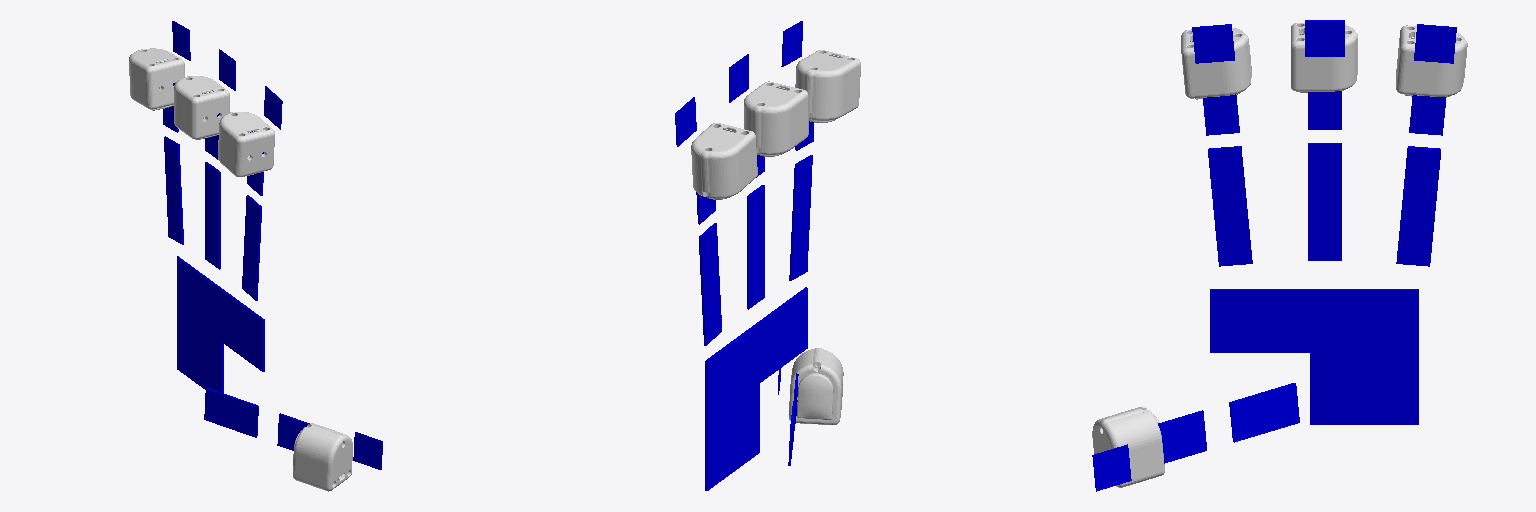
--- What the picture shows (computed from the rendered views, not written in the file) ---
The picture shows the robot from 3 angles, left to right: view 1: azimuth 30°, elevation 25°; view 2: azimuth 150°, elevation 25°; view 3: azimuth 270°, elevation 25°; orthographic projection.
Model robot with 35 links and 34 joints (16 revolute, 18 fixed), rooted at hand_palm_link, posed joints at zero except 1 at the middle of their limits (joint_12.0 = 0.4815).
Visible links, largest first — view 1: palm_aux_link, palm_aux2_link, hand_link_15._link_tip_link, hand_link_3.0_link_tip_link, hand_link_7.0_link_tip_link, hand_link_11._link_tip_link, finger_4_contact_14_link, finger_2_contact_5_link, finger_3_contact_9_link, finger_1_contact_1_link, finger_4_contact_15_tip_link, finger_4_contact_15_link (+3 smaller); view 2: palm_aux_link, palm_aux2_link, hand_link_11._link_tip_link, hand_link_7.0_link_tip_link, hand_link_3.0_link_tip_link, hand_link_15._link_tip_link, finger_1_contact_1_link, finger_3_contact_9_link, finger_2_contact_5_link, finger_3_contact_11_tip_link, finger_1_contact_3_tip_link, finger_2_contact_7_tip_link; view 3: palm_aux_link, palm_aux2_link, finger_1_contact_1_link, finger_3_contact_9_link, finger_2_contact_5_link, hand_link_15._link_tip_link, hand_link_11._link_tip_link, hand_link_3.0_link_tip_link, hand_link_7.0_link_tip_link, finger_4_contact_14_link, finger_4_contact_15_link, finger_2_contact_7_tip_link (+6 smaller).
Link boxes in pixels (box(x1,y1,x2,y2)): palm_aux_link: box(177, 256, 223, 392); palm_aux2_link: box(201, 275, 264, 371); hand_link_15._link_tip_link: box(293, 423, 352, 491); hand_link_3.0_link_tip_link: box(218, 112, 274, 176); hand_link_7.0_link_tip_link: box(174, 76, 229, 139); hand_link_11._link_tip_link: box(129, 48, 184, 110); finger_4_contact_14_link: box(204, 388, 258, 437); finger_2_contact_5_link: box(205, 162, 220, 269); finger_3_contact_9_link: box(164, 136, 183, 244); finger_1_contact_1_link: box(242, 195, 261, 300); finger_4_contact_15_tip_link: box(353, 432, 382, 469); finger_4_contact_15_link: box(277, 413, 309, 450); palm_aux_link: box(705, 322, 759, 490); palm_aux2_link: box(736, 287, 807, 400); hand_link_11._link_tip_link: box(691, 123, 757, 199); hand_link_7.0_link_tip_link: box(744, 81, 808, 156); hand_link_3.0_link_tip_link: box(795, 50, 860, 122); hand_link_15._link_tip_link: box(789, 348, 843, 424); finger_1_contact_1_link: box(789, 155, 812, 280); finger_3_contact_9_link: box(699, 223, 721, 345); finger_2_contact_5_link: box(747, 185, 764, 309); finger_3_contact_11_tip_link: box(675, 97, 696, 146); finger_1_contact_3_tip_link: box(781, 21, 802, 66); finger_2_contact_7_tip_link: box(729, 54, 748, 102); palm_aux_link: box(1310, 289, 1418, 424); palm_aux2_link: box(1210, 289, 1358, 352); finger_1_contact_1_link: box(1208, 146, 1252, 266); finger_3_contact_9_link: box(1396, 146, 1440, 266); finger_2_contact_5_link: box(1308, 143, 1341, 260); hand_link_15._link_tip_link: box(1092, 407, 1164, 487); hand_link_11._link_tip_link: box(1396, 25, 1467, 97); hand_link_3.0_link_tip_link: box(1181, 28, 1251, 99); hand_link_7.0_link_tip_link: box(1291, 23, 1357, 92); finger_4_contact_14_link: box(1229, 383, 1299, 442); finger_4_contact_15_link: box(1158, 410, 1206, 463); finger_2_contact_7_tip_link: box(1305, 20, 1344, 56).
Size in the robot's own frame: 0.0755 by 0.1883 by 0.2477 metres.
Meshes: 10 distinct files referenced, 4 mesh visuals loaded (1 OBJ); not drawn: 17 (reference not matched to a file when rendering).

robot.urdf — robot:
<robot>




  <link name="hand_palm_link">
    <visual>
      <geometry>
        <mesh filename="./../meshes/allegro/meshes/allegro/base_link_left.obj"/>
      </geometry>
      <!-- LEFT -->
      <origin rpy="-1.57 0 0" xyz="0 0 0 "/>
      <!-- RIGHT -->
      <!-- <origin rpy="0 0 0" xyz="0 0 0 "/> -->
      <material name="black">
        <color rgba="0.2 0.2 0.2 1"/>
      </material>
    </visual>
    <collision>
      <origin rpy="0 0 0" xyz="-0.009300 0 -0.0475"/>
      <geometry>
        <!-- <box size="0.0408 0.1130 0.095"/> -->
        <box size="0.01 0.01 0.01"/>
      </geometry>
    </collision>
    <inertial>
      <origin rpy="0 0 0" xyz="0 0 0.0475"/>
      <mass value="0.4154"/>
      <inertia ixx="1e-4" ixy="0.0" ixz="0.0" iyy="1e-4" iyz="0.0" izz="1e-4"/>
    </inertial>
  </link>

  <link name="palm_aux_link">
    <visual>
      <geometry>
        <box size="0.00125 0.055 0.075"/>
      </geometry>
      <material name="blue">
        <color rgba="0 0 1 1"/>
      </material>
    </visual>
    <collision>
      <geometry>
        <box size="0.00125 0.055 0.075"/>
      </geometry>
    </collision>
  </link>
  <joint name="palm_aux_joint" type="fixed" dont_collapse="true">
    <parent link="hand_palm_link"/>
    <child link="palm_aux_link"/>
    <origin rpy="0 0 0" xyz="0.0125 0.02 -0.04"/>
  </joint>

  <link name="palm_aux2_link">
    <visual>
      <geometry>
        <box size="0.00125 0.075 0.035"/>
      </geometry>
      <material name="blue">
        <color rgba="0 0 1 1"/>
      </material>
    </visual>
    <collision>
      <geometry>
        <box size="0.00125 0.017 0.065"/>
      </geometry>
    </collision>
  </link>
  <joint name="palm_aux_joint2" type="fixed" dont_collapse="true">
    <parent link="hand_palm_link"/>
    <child link="palm_aux2_link"/>
    <origin rpy="0 0 0" xyz="0.0125 -0.02 -0.02"/>
  </joint>


  <!-- ============================================================================= -->
  <!-- FINGERS -->
  <!-- RIGHT HAND due to which finger is number 0 -->
  <!-- for LEFT HAND switch the sign of the **offset_origin_y** and **finger_angle_r** parameters-->
  <link name="hand_link_0.0_link">
    <visual>
      <geometry>
        <mesh filename="./../meshes/allegro/meshes/allegro/link_0.0.obj"/>
      </geometry>
      <material name="black"/>
    </visual>
    <collision>
      <geometry>
        <box size="0.0196 0.0275 0.0164"/>
      </geometry>
      <origin rpy="0 0 0" xyz="0 0 0.0082"/>
    </collision>
    <inertial>
      <mass value="0.0119"/>
      <origin rpy="0 0 0" xyz="0 0 0"/>
      <inertia ixx="1.01666658333e-06" ixy="0.0" ixz="0.0" iyy="6.47677333333e-07" iyz="0.0" izz="1.01666658333e-06"/>
    </inertial>
  </link>
  <joint name="joint_0.0" type="revolute">
    <axis xyz="0 0 1"/>
    <limit effort="0.35" lower="-0.47" upper="0.47" velocity="6.283"/>
    <parent link="hand_palm_link"/>
    <child link="hand_link_0.0_link"/>
    <origin rpy="0.08726646255 0 0" xyz="0 -0.0435 -0.001542"/>
  </joint>
  <link name="hand_link_1.0_link">
    <visual>
      <geometry>
        <mesh filename="./../meshes/allegro/meshes/allegro/link_1.0.obj"/>
      </geometry>
      <material name="black"/>
    </visual>
    <collision>
      <geometry>
        <box size="0.0196 0.0275 0.054"/>
      </geometry>
      <origin rpy="0 0 0" xyz="0 0 0.027"/>
    </collision>
    <inertial>
      <mass value="0.065"/>
      <origin rpy="0 0 0" xyz="0 0 0"/>
      <inertia ixx="7.95654166667e-05" ixy="1.7199e-05" ixz="8.75875e-06" iyy="2.47088833333e-05" iyz="2.413125e-05" izz="7.95654166667e-05"/>
    </inertial>
  </link>
  <joint name="joint_1.0" type="revolute">
    <limit effort="0.35" lower="-0.196" upper="1.61" velocity="6.283"/>
    <axis xyz="0 1 0"/>
    <parent link="hand_link_0.0_link"/>
    <child link="hand_link_1.0_link"/>
    <origin xyz="0 0 0.0164"/>
  </joint>

  <link name="finger_1_contact_1_link">
    <visual>
      <geometry>
        <box size="0.00125 0.017 0.065"/>
      </geometry>
      <material name="blue">
        <color rgba="0 0 1 1"/>
      </material>
    </visual>
    <collision>
      <geometry>
        <box size="0.00125 0.017 0.065"/>
      </geometry>
    </collision>
  </link>

  <joint name="finger_1_contact2_1" type="fixed" dont_collapse="true">
    <parent link="hand_link_1.0_link"/>
    <child link="finger_1_contact_1_link"/>
    <origin rpy="0 0 0" xyz="0.01 0 0.0275"/>
  </joint>

  <link name="hand_link_2.0_link">
    <visual>
      <geometry>
        <mesh filename="./../meshes/allegro/meshes/allegro/link_2.0.obj"/>
      </geometry>
      <material name="black"/>
    </visual>
    <collision>
      <geometry>
        <box size="0.0196 0.0275 0.0384"/>
      </geometry>
      <origin rpy="0 0 0" xyz="0 0 0.0192"/>
    </collision>
    <inertial>
      <mass value="0.0355"/>
      <origin rpy="0 0 0" xyz="0 0 0"/>
      <inertia ixx="2.63979183333e-05" ixy="6.67968e-06" ixz="4.783625e-06" iyy="1.34948516667e-05" iyz="9.372e-06" izz="2.63979183333e-05"/>
    </inertial>
  </link>
  <joint name="joint_2.0" type="revolute">
    <axis xyz="0 1 0"/>
    <limit effort="0.35" lower="-0.174" upper="1.4" velocity="6.283"/> <!-- PREV: 1.709 -->
    <parent link="hand_link_1.0_link"/>
    <child link="hand_link_2.0_link"/>
    <origin xyz="0 0 0.054"/>
  </joint>

  <link name="finger_1_contact_2_link">
    <visual>
      <geometry>
        <box size="0.00125 0.017 0.0375"/>
      </geometry>
      <material name="blue">
        <color rgba="0 0 1 1"/>
      </material>
    </visual>
    <collision>
      <geometry>
        <box size="0.00125 0.017 0.0375"/>
      </geometry>
    </collision>
  </link>

  <joint name="finger_1_contact2_2" type="fixed" dont_collapse="true">
    <parent link="hand_link_2.0_link"/>
    <child link="finger_1_contact_2_link"/>
    <origin rpy="0 0 0" xyz="0.01 0 0.0325"/>
  </joint>

  <link name="hand_link_3.0_link">
    <visual>
      <geometry>
        <mesh filename="./../meshes/allegro/meshes/allegro/link_3.0.obj"/>
      </geometry>
      <material name="black"/>
    </visual>
    <collision>
      <geometry>
        <sphere radius="0.0001"/>
      </geometry>
      <origin rpy="0 0 0" xyz="0 0 0.01335"/>
    </collision>
    <inertial>
      <mass value="0.0096"/>
      <origin rpy="0 0 0" xyz="0 0 0"/>
      <inertia ixx="4.701248e-06" ixy="1.255968e-06" ixz="1.2936e-06" iyy="3.649312e-06" iyz="1.7622e-06" izz="4.701248e-06"/>
    </inertial>
  </link>
  <joint name="joint_3.0" type="revolute">
    <axis xyz="0 1 0"/>
    <limit effort="0.35" lower="-0.227" upper="1.0" velocity="6.283"/> <!-- PREV: 1.618 -->
    <parent link="hand_link_2.0_link"/>
    <child link="hand_link_3.0_link"/>
    <origin xyz="0 0 0.0384"/>
  </joint>

  <!-- <link name="finger_1_contact_3">
    <visual>
      <geometry>
        <box size="0.00125 0.022 0.0375"/>
      </geometry>
      <material name="blue">
        <color rgba="0 0 1 1"/>
      </material>
    </visual>
    <collision>
      <geometry>
        <box size="0.00125 0.022 0.0375"/>
      </geometry>
    </collision>
  </link>

  <joint name="finger_1_contact2_3" type="fixed" dont_collapse="true">
    <parent link="hand_link_3.0_link"/>
    <child link="finger_1_contact_3"/>
    <origin rpy="0 0 0" xyz="0.01 0 -0.005"/>
  </joint> -->

  <link name="hand_link_3.0_link_tip_link">
    <visual>
      <geometry>
        <mesh filename="./../meshes/allegro/meshes/allegro/digit.obj"/>
      </geometry>
      <origin rpy="0 0 0" xyz="-0.02 0.000 -0.015"/>
      <material name="white">
        <color rgba=".9 .9 .9 1"/>
      </material>
    </visual>
    <collision>
      <geometry>
        <sphere radius="0.01235"/>
      </geometry>
      <origin rpy="0 0 0" xyz="0.000 0.000 0"/>
    </collision>
    <inertial>
      <mass value="0.0168"/>
      <origin rpy="0 0 0" xyz="0 0 0"/>
      <inertia ixx="9.68e-07" ixy="0" ixz="0" iyy="9.68e-07" iyz="0" izz="9.68e-07"/>
    </inertial>
  </link>
  <joint name="joint_3.0_tip_link" type="fixed" dont_collapse="true">
    <parent link="hand_link_3.0_link"/>
    <child link="hand_link_3.0_link_tip_link"/>
    <origin rpy="0 0 0" xyz="0.02 0 0.03"/>
  </joint>

  <link name="finger_1_contact_3_tip_link">
    <visual>
      <geometry>
        <box size="0.00075 0.02 0.02"/>
      </geometry>
      <material name="blue">
        <color rgba="0 0 1 1"/>
      </material>
    </visual>
    <collision>
      <geometry>
        <box size="0.00075 0.02 0.02"/>
      </geometry>
    </collision>
  </link>

  <joint name="finger_1_contact2_3_tip" type="fixed" dont_collapse="true">
    <parent link="hand_link_3.0_link_tip_link"/>
    <child link="finger_1_contact_3_tip_link"/>
    <origin rpy="0 0 0" xyz="0 0 0"/>
  </joint>

  <link name="hand_link_4.0_link">
    <visual>
      <geometry>
        <mesh filename="./../meshes/allegro/meshes/allegro/link_0.0.obj"/>
      </geometry>
      <material name="black"/>
    </visual>
    <collision>
      <geometry>
        <box size="0.0196 0.0275 0.0164"/>
      </geometry>
      <origin rpy="0 0 0" xyz="0 0 0.0082"/>
    </collision>
    <inertial>
      <mass value="0.0119"/>
      <origin rpy="0 0 0" xyz="0 0 0"/>
      <inertia ixx="1.01666658333e-06" ixy="0.0" ixz="0.0" iyy="6.47677333333e-07" iyz="0.0" izz="1.01666658333e-06"/>
    </inertial>
  </link>
  <joint name="joint_4.0" type="revolute">
    <axis xyz="0 0 1"/>
    <limit effort="0.35" lower="-0.47" upper="0.47" velocity="6.283"/>
    <parent link="hand_palm_link"/>
    <child link="hand_link_4.0_link"/>
    <origin rpy="0.0 0 0" xyz="0 0 0.0007"/>
  </joint>
  <link name="hand_link_5.0_link">
    <visual>
      <geometry>
        <mesh filename="./../meshes/allegro/meshes/allegro/link_1.0.obj"/>
      </geometry>
      <material name="black"/>
    </visual>
    <collision>
      <geometry>
        <box size="0.0196 0.0275 0.054"/>
      </geometry>
      <origin rpy="0 0 0" xyz="0 0 0.027"/>
    </collision>
    <inertial>
      <mass value="0.065"/>
      <origin rpy="0 0 0" xyz="0 0 0"/>
      <inertia ixx="7.95654166667e-05" ixy="1.7199e-05" ixz="8.75875e-06" iyy="2.47088833333e-05" iyz="2.413125e-05" izz="7.95654166667e-05"/>
    </inertial>
  </link>
  <joint name="joint_5.0" type="revolute">
    <limit effort="0.35" lower="-0.196" upper="1.61" velocity="6.283"/>
    <axis xyz="0 1 0"/>
    <parent link="hand_link_4.0_link"/>
    <child link="hand_link_5.0_link"/>
    <origin xyz="0 0 0.0164"/>
  </joint>

  <link name="finger_2_contact_5_link">
    <visual>
      <geometry>
        <box size="0.00125 0.017 0.065"/>
      </geometry>
      <material name="blue">
        <color rgba="0 0 1 1"/>
      </material>
    </visual>
    <collision>
      <geometry>
        <box size="0.00125 0.017 0.065"/>
      </geometry>
    </collision>
  </link>

  <joint name="finger_2_contact5_1" type="fixed" dont_collapse="true">
    <parent link="hand_link_5.0_link"/>
    <child link="finger_2_contact_5_link"/>
    <origin rpy="0 0 0" xyz="0.01 0 0.0275"/>
  </joint>

  <link name="hand_link_6.0_link">
    <visual>
      <geometry>
        <mesh filename="./../meshes/allegro/meshes/allegro/link_2.0.obj"/>
      </geometry>
      <material name="black"/>
    </visual>
    <collision>
      <geometry>
        <box size="0.0196 0.0275 0.0384"/>
      </geometry>
      <origin rpy="0 0 0" xyz="0 0 0.0192"/>
    </collision>
    <inertial>
      <mass value="0.0355"/>
      <origin rpy="0 0 0" xyz="0 0 0"/>
      <inertia ixx="2.63979183333e-05" ixy="6.67968e-06" ixz="4.783625e-06" iyy="1.34948516667e-05" iyz="9.372e-06" izz="2.63979183333e-05"/>
    </inertial>
  </link>
  <joint name="joint_6.0" type="revolute">
    <axis xyz="0 1 0"/>
    <limit effort="0.35" lower="-0.174" upper="1.4" velocity="6.283"/>  <!-- PREV: 1.709 -->
    <parent link="hand_link_5.0_link"/>
    <child link="hand_link_6.0_link"/>
    <origin xyz="0 0 0.054"/>
  </joint>

  <link name="finger_2_contact_6_link">
    <visual>
      <geometry>
        <box size="0.00125 0.017 0.0375"/>
      </geometry>
      <material name="blue">
        <color rgba="0 0 1 1"/>
      </material>
    </visual>
    <collision>
      <geometry>
        <box size="0.00125 0.017 0.0375"/>
      </geometry>
    </collision>
  </link>

  <joint name="finger_2_contact6_2" type="fixed" dont_collapse="true">
    <parent link="hand_link_6.0_link"/>
    <child link="finger_2_contact_6_link"/>
    <origin rpy="0 0 0" xyz="0.01 0 0.0325"/>
  </joint>

  <link name="hand_link_7.0_link">
    <visual>
      <geometry>
        <mesh filename="./../meshes/allegro/meshes/allegro/link_3.0.obj"/>
      </geometry>
      <material name="black"/>
    </visual>
    <collision>
      <geometry>
        <sphere radius="0.0001"/>
      </geometry>
    </collision>
    <inertial>
      <mass value="0.0096"/>
      <origin rpy="0 0 0" xyz="0 0 0"/>
      <inertia ixx="4.701248e-06" ixy="1.255968e-06" ixz="1.2936e-06" iyy="3.649312e-06" iyz="1.7622e-06" izz="4.701248e-06"/>
    </inertial>
  </link>
  <joint name="joint_7.0" type="revolute">
    <axis xyz="0 1 0"/>
    <limit effort="0.35" lower="-0.227" upper="1." velocity="6.283"/>  <!-- PREV: 1.618 -->
    <parent link="hand_link_6.0_link"/>
    <child link="hand_link_7.0_link"/>
    <origin xyz="0 0 0.0384"/>
  </joint>

  <!-- <link name="finger_2_contact_7">
    <visual>
      <geometry>
        <box size="0.00125 0.022 0.0375"/>
      </geometry>
      <material name="blue">
        <color rgba="0 0 1 1"/>
      </material>
    </visual>
    <collision>
      <geometry>
        <box size="0.00125 0.022 0.0375"/>
      </geometry>
    </collision>
  </link>

  <joint name="finger_2_contact2_7" type="fixed" dont_collapse="true">
    <parent link="hand_link_7.0_link"/>
    <child link="finger_2_contact_7"/>
    <origin rpy="0 0 0" xyz="0.01 0 -0.005"/>
  </joint> -->

  <link name="hand_link_7.0_link_tip_link">
    <visual>
      <geometry>
        <mesh filename="./../meshes/allegro/meshes/allegro/digit.obj"/>
      </geometry>
      <origin rpy="0 0 0" xyz="-0.02 0.000 -0.015"/>
      <material name="white">
        <color rgba=".9 .9 .9 1"/>
      </material>
    </visual>
    <collision>
      <geometry>
        <sphere radius="0.01235"/>
      </geometry>
    </collision>
    <inertial>
      <mass value="0.0168"/>
      <origin rpy="0 0 0" xyz="0 0 0"/>
      <inertia ixx="9.68e-07" ixy="0" ixz="0" iyy="9.68e-07" iyz="0" izz="9.68e-07"/>
    </inertial>
  </link>
  <joint name="joint_7.0_tip_link" type="fixed" dont_collapse="true">
    <parent link="hand_link_7.0_link"/>
    <child link="hand_link_7.0_link_tip_link"/>
    <origin rpy="0 0 0" xyz="0.02 0 0.03"/>
  </joint>

  <link name="finger_2_contact_7_tip_link">
    <visual>
      <geometry>
        <box size="0.00075 0.02 0.02"/>
      </geometry>
      <material name="blue">
        <color rgba="0 0 1 1"/>
      </material>
    </visual>
    <collision>
      <geometry>
        <box size="0.00075 0.02 0.02"/>
      </geometry>
    </collision>
  </link>

  <joint name="finger_2_contact2_7_tip" type="fixed" dont_collapse="true">
    <parent link="hand_link_7.0_link_tip_link"/>
    <child link="finger_2_contact_7_tip_link"/>
    <origin rpy="0 0 0" xyz="0 0 0"/>
  </joint>

  <link name="hand_link_8.0_link">
    <visual>
      <geometry>
        <mesh filename="./../meshes/allegro/meshes/allegro/link_0.0.obj"/>
      </geometry>
      <material name="black"/>
    </visual>
    <collision>
      <geometry>
        <box size="0.0196 0.0275 0.0164"/>
      </geometry>
      <origin rpy="0 0 0" xyz="0 0 0.0082"/>
    </collision>
    <inertial>
      <mass value="0.0119"/>
      <origin rpy="0 0 0" xyz="0 0 0"/>
      <inertia ixx="1.01666658333e-06" ixy="0.0" ixz="0.0" iyy="6.47677333333e-07" iyz="0.0" izz="1.01666658333e-06"/>
    </inertial>
  </link>
  <joint name="joint_8.0" type="revolute">
    <axis xyz="0 0 1"/>
    <limit effort="0.35" lower="-0.47" upper="0.47" velocity="6.283"/>
    <parent link="hand_palm_link"/>
    <child link="hand_link_8.0_link"/>
    <origin rpy="-0.08726646255 0 0" xyz="0 0.0435 -0.001542"/>
  </joint>
  <link name="hand_link_9.0_link">
    <visual>
      <geometry>
        <mesh filename="./../meshes/allegro/meshes/allegro/link_1.0.obj"/>
      </geometry>
      <material name="black"/>
    </visual>
    <collision>
      <geometry>
        <box size="0.0196 0.0275 0.054"/>
      </geometry>
      <origin rpy="0 0 0" xyz="0 0 0.027"/>
    </collision>
    <inertial>
      <mass value="0.065"/>
      <origin rpy="0 0 0" xyz="0 0 0"/>
      <inertia ixx="7.95654166667e-05" ixy="1.7199e-05" ixz="8.75875e-06" iyy="2.47088833333e-05" iyz="2.413125e-05" izz="7.95654166667e-05"/>
    </inertial>
  </link>
  <joint name="joint_9.0" type="revolute">
    <limit effort="0.35" lower="-0.196" upper="1.61" velocity="6.283"/>
    <axis xyz="0 1 0"/>
    <parent link="hand_link_8.0_link"/>
    <child link="hand_link_9.0_link"/>
    <origin xyz="0 0 0.0164"/>
  </joint>

  <link name="finger_3_contact_9_link">
    <visual>
      <geometry>
        <box size="0.00125 0.017 0.065"/>
      </geometry>
      <material name="blue">
        <color rgba="0 0 1 1"/>
      </material>
    </visual>
    <collision>
      <geometry>
        <box size="0.00125 0.017 0.065"/>
      </geometry>
    </collision>
  </link>

  <joint name="finger_3_contact9_1" type="fixed" dont_collapse="true">
    <parent link="hand_link_9.0_link"/>
    <child link="finger_3_contact_9_link"/>
    <origin rpy="0 0 0" xyz="0.01 0 0.0275"/>
  </joint>

  <link name="hand_link_10._link">
    <visual>
      <geometry>
        <mesh filename="./../meshes/allegro/meshes/allegro/link_2.0.obj"/>
      </geometry>
      <material name="black"/>
    </visual>
    <collision>
      <geometry>
        <box size="0.0196 0.0275 0.0384"/>
      </geometry>
      <origin rpy="0 0 0" xyz="0 0 0.0192"/>
    </collision>
    <inertial>
      <mass value="0.0355"/>
      <origin rpy="0 0 0" xyz="0 0 0"/>
      <inertia ixx="2.63979183333e-05" ixy="6.67968e-06" ixz="4.783625e-06" iyy="1.34948516667e-05" iyz="9.372e-06" izz="2.63979183333e-05"/>
    </inertial>
  </link>
  <joint name="joint_10.0" type="revolute">
    <axis xyz="0 1 0"/>
    <limit effort="0.35" lower="-0.174" upper="1.4" velocity="6.283"/>  <!-- PREV: 1.709 -->
    <parent link="hand_link_9.0_link"/>
    <child link="hand_link_10._link"/>
    <origin xyz="0 0 0.054"/>
  </joint>

  <link name="finger_3_contact_10_link">
    <visual>
      <geometry>
        <box size="0.00125 0.017 0.0375"/>
      </geometry>
      <material name="blue">
        <color rgba="0 0 1 1"/>
      </material>
    </visual>
    <collision>
      <geometry>
        <box size="0.00125 0.017 0.0375"/>
      </geometry>
    </collision>
  </link>

  <joint name="finger_3_contact10_2" type="fixed" dont_collapse="true">
    <parent link="hand_link_10._link"/>
    <child link="finger_3_contact_10_link"/>
    <origin rpy="0 0 0" xyz="0.01 0 0.0325"/>
  </joint>

  <link name="hand_link_11._link">
    <visual>
      <geometry>
        <mesh filename="./../meshes/allegro/meshes/allegro/link_3.0.obj"/>
      </geometry>
      <material name="black"/>
    </visual>
    <collision>
      <geometry>
        <sphere radius="0.0001"/>
      </geometry>
    </collision>
    <inertial>
      <mass value="0.0096"/>
      <origin rpy="0 0 0" xyz="0 0 0"/>
      <inertia ixx="4.701248e-06" ixy="1.255968e-06" ixz="1.2936e-06" iyy="3.649312e-06" iyz="1.7622e-06" izz="4.701248e-06"/>
    </inertial>
  </link>
  <joint name="joint_11.0" type="revolute">
    <axis xyz="0 1 0"/>
    <limit effort="0.35" lower="-0.227" upper="1" velocity="6.283"/>  <!-- PREV: 1.618 -->
    <parent link="hand_link_10._link"/>
    <child link="hand_link_11._link"/>
    <origin xyz="0 0 0.0384"/>
  </joint>

  <!-- <link name="finger_3_contact_11">
    <visual>
      <geometry>
        <box size="0.00125 0.022 0.0375"/>
      </geometry>
      <material name="blue">
        <color rgba="0 0 1 1"/>
      </material>
    </visual>
    <collision>
      <geometry>
        <box size="0.00125 0.022 0.0375"/>
      </geometry>
    </collision>
  </link>

  <joint name="finger_3_contact2_11" type="fixed" dont_collapse="true">
    <parent link="hand_link_11._link"/>
    <child link="finger_3_contact_11"/>
    <origin rpy="0 0 0" xyz="0.01 0 -0.005"/>
  </joint> -->

  <link name="hand_link_11._link_tip_link">
    <visual>
      <geometry>
        <mesh filename="./../meshes/allegro/meshes/allegro/digit.obj"/>
      </geometry>
      <origin rpy="0 0 0" xyz="-0.02 0.000 -0.015"/>
      <material name="white">
        <color rgba=".9 .9 .9 1"/>
      </material>
    </visual>
    <collision>
      <geometry>
        <sphere radius="0.01235"/>
      </geometry>
    </collision>
    <inertial>
      <mass value="0.0168"/>
      <origin rpy="0 0 0" xyz="0 0 0"/>
      <inertia ixx="9.68e-07" ixy="0" ixz="0" iyy="9.68e-07" iyz="0" izz="9.68e-07"/>
    </inertial>
  </link>
  <joint name="joint_11.0_tip_link" type="fixed" dont_collapse="true">
    <parent link="hand_link_11._link"/>
    <child link="hand_link_11._link_tip_link"/>
    <origin rpy="0 0 0" xyz="0.02 0 0.03"/>
  </joint>

  <link name="finger_3_contact_11_tip_link">
    <visual>
      <geometry>
        <box size="0.00075 0.02 0.02"/>
      </geometry>
      <material name="blue">
        <color rgba="0 0 1 1"/>
      </material>
    </visual>
    <collision>
      <geometry>
        <box size="0.00075 0.02 0.02"/>
      </geometry>
    </collision>
  </link>

  <joint name="finger_3_contact2_11_tip" type="fixed" dont_collapse="true">
    <parent link="hand_link_11._link_tip_link"/>
    <child link="finger_3_contact_11_tip_link"/>
    <origin rpy="0 0 0" xyz="0 0 0"/>
  </joint>

  <!-- THUMB -->
  <link name="hand_link_12._link">
    <visual>
      <geometry>
        <!-- RIGHT -->
        <!-- <mesh filename="./../meshes/allegro/meshes/allegro/link_12.0_right.obj"/> -->
        <!-- LEFT -->
        <mesh filename="./../meshes/allegro/meshes/allegro/link_12.0_left.obj" />
      </geometry>
      <material name="black">
        <color rgba=".2 .2 .2 1"/>
      </material>
    </visual>
    <collision>
      <geometry>
        <box size="0.0358 0.034 0.0455"/>
      </geometry>
      <!-- RIGHT -->
      <!-- <origin rpy="0 0 0" xyz="-0.0179 0.009 0.0145"/> -->
      <!-- LEFT -->
      <origin rpy="0 0 0" xyz="-0.0179 -0.09 0.145"/>
    </collision>
    <inertial>
      <mass value="0.0176"/>
      <origin rpy="0 0 0" xyz="0 0 0"/>
      <inertia ixx="1.89273333333e-5" ixy="7.16716e-06" ixz="5.35568e-06" iyy="1.43008213333e-05" iyz="6.8068e-06" izz="1.89273333333e-05"/>
    </inertial>
  </link>
  <joint name="joint_12.0" type="revolute">
    <axis xyz="1 0 0"/>
    <limit effort="0.35" lower="0.263" upper="0.7" velocity="6.283"/>  <!-- PREV: 1.396 -->
    <parent link="hand_palm_link"/>
    <child link="hand_link_12._link"/>
    <origin rpy="0 -1.65806278845 1.5707963259" xyz="-0.0182 -0.019333 -0.045987"/>
  </joint>
  <link name="hand_link_13._link">
    <visual>
      <geometry>
        <mesh filename="./../meshes/allegro/meshes/allegro/link_13.0.obj"/>
      </geometry>
      <material name="black">
        <color rgba=".2 .2 .2 1"/>
      </material>
    </visual>
    <collision>
      <geometry>
        <box size="0.0196 0.0275 0.0177"/>
      </geometry>
      <origin rpy="0 0 0" xyz="0 0 0.00885"/>
    </collision>
    <inertial>
      <mass value="0.0119"/>
      <origin rpy="0 0 0" xyz="0 0 0"/>
      <inertia ixx="4.24250866667e-06" ixy="1.032087e-06" ixz="1.603525e-06" iyy="4.52362633333e-06" iyz="1.44808125e-06" izz="4.24250866667e-06"/>
    </inertial>
  </link>
  <joint name="joint_13.0" type="revolute">
    <axis xyz="0 0 -1"/>
    <limit effort="0.35" lower="-1.05" upper="0.7" velocity="6.283"/>  <!-- -0.105 EL LOWER original, PREV 1.163 -->
    <parent link="hand_link_12._link"/>
    <child link="hand_link_13._link"/>
    <!-- LEFT -->
    <origin xyz="-0.027 -0.005 0" rpy="0 0 -1.57"/> <!-- -0.027 -0.005 -0.0399 -->
    <!-- RIGHT -->
    <!-- <origin xyz="-0.027 0.005 0.0399"/> -->
  </joint>
  <link name="hand_link_14._link">
    <visual>
      <geometry>
        <mesh filename="./../meshes/allegro/meshes/allegro/link_14.0.obj"/>
      </geometry>
      <material name="black">
      </material>
    </visual>
    <collision>
      <geometry>
        <box size="0.0196 0.0275 0.0514"/>
      </geometry>
      <origin rpy="0 0 0" xyz="0 0 0.0257"/>
    </collision>
    <inertial>
      <mass value="0.038"/>
      <origin rpy="0 0 0" xyz="0 0 0"/>
      <inertia ixx="4.30439933333e-05" ixy="9.57068e-06" ixz="5.1205e-06" iyy="1.44451933333e-05" iyz="1.342825e-05" izz="4.30439933333e-05"/>
    </inertial>
  </link>
  <joint name="joint_14.0" type="revolute">
    <axis xyz="0 1 0"/>
    <limit effort="0.35" lower="-0.189" upper="0.8" velocity="6.283"/>  <!-- PREV: 1.644 -->
    <parent link="hand_link_13._link"/>
    <child link="hand_link_14._link"/>
    <origin xyz="0 0 0.0177"/>
  </joint>

<link name="finger_4_contact_14_link">
    <visual>
      <geometry>
        <box size="0.00125 0.022 0.0375"/>
      </geometry>
      <material name="blue">
        <color rgba="0 0 1 1"/>
      </material>
    </visual>
    <collision>
      <geometry>
        <box size="0.00125 0.022 0.0375"/>
      </geometry>
    </collision>
  </link>

  <joint name="finger_4_contact2_14" type="fixed" dont_collapse="true">
    <parent link="hand_link_14._link"/>
    <child link="finger_4_contact_14_link"/>
    <origin rpy="0 0 0" xyz="0.01 0 0.005"/>
  </joint>

  <link name="hand_link_15._link">
    <visual>
      <geometry>
        <mesh filename="./../meshes/allegro/meshes/allegro/link_15.0.obj"/>
      </geometry>
      <material name="black">
    	</material>
    </visual>
    <collision>
      <geometry>
        <sphere radius="0.0001"/>
      </geometry>
      <origin rpy="0 0 0" xyz="0 0 0.02115"/>
    </collision>
    <inertial>
      <mass value="0.0388"/>
      <origin rpy="0 0 0" xyz="0 0 0"/>
      <inertia ixx="3.29223173333e-05" ixy="8.042076e-06" ixz="5.2283e-06" iyy="1.47493026667e-5" iyz="1.1283525e-5" izz="3.29223173333e-05"/>
    </inertial>
  </link>
  <joint name="joint_15.0" type="revolute">
    <axis xyz="0 1 0"/>
    <limit effort="0.35" lower="-0.162" upper="1.719" velocity="6.283"/>
    <parent link="hand_link_14._link"/>
    <child link="hand_link_15._link"/>
    <origin xyz="0 0 0.0514"/>
  </joint>

  <link name="finger_4_contact_15_link">
    <visual>
      <geometry>
        <box size="0.00125 0.022 0.035"/>
      </geometry>
      <material name="blue">
        <color rgba="0 0 1 1"/>
      </material>
    </visual>
    <collision>
      <geometry>
        <box size="0.00125 0.022 0.035"/>
      </geometry>
    </collision>
  </link>

  <joint name="finger_4_contact2_15" type="fixed" dont_collapse="true">
    <parent link="hand_link_15._link"/>
    <child link="finger_4_contact_15_link"/>
    <origin rpy="0 0 0" xyz="0.01 0 0.005"/>
  </joint>

  <link name="hand_link_15._link_tip_link">
    <visual>
      <geometry>
        <mesh filename="./../meshes/allegro/meshes/allegro/digit.obj"/>
      </geometry>
      <origin rpy="0 0 0" xyz="-0.02 0.000 -0.015"/>
      <material name="white">
        <color rgba=".9 .9 .9 1"/>
      </material>
    </visual>
    <collision>
      <geometry>
        <sphere radius="0.01235"/>
      </geometry>
    </collision>
    <inertial>
      <mass value="0.0168"/>
      <origin rpy="0 0 0" xyz="0 0 0"/>
      <inertia ixx="9.68e-07" ixy="0" ixz="0" iyy="9.68e-07" iyz="0" izz="9.68e-07"/>
    </inertial>
  </link>
  <joint name="joint_15.0_tip_link" type="fixed" dont_collapse="true">
    <parent link="hand_link_15._link"/>
    <child link="hand_link_15._link_tip_link"/>
    <origin rpy="0 0 0" xyz="0.02 0 0.0455"/>
  </joint>

  <link name="finger_4_contact_15_tip_link">
    <visual>
      <geometry>
        <box size="0.00075 0.02 0.02"/>
      </geometry>
      <material name="blue">
        <color rgba="0 0 1 1"/>
      </material>
    </visual>
    <collision>
      <geometry>
        <box size="0.00075 0.02 0.02"/>
      </geometry>
    </collision>
  </link>

  <joint name="finger_4_contact2_15_tip" type="fixed" dont_collapse="true">
    <parent link="hand_link_15._link_tip_link"/>
    <child link="finger_4_contact_15_tip_link"/>
    <origin rpy="0 0 0" xyz="0.0 0 0.0"/>
  </joint>

</robot>
